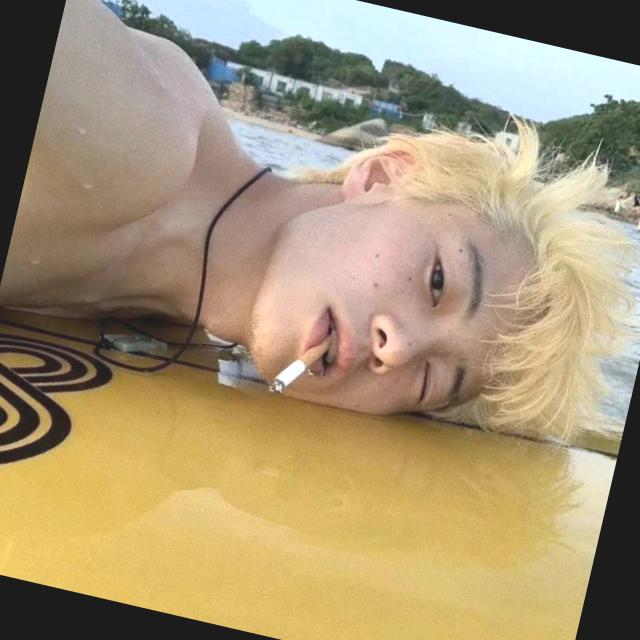smoke: (250, 304, 342, 419)
